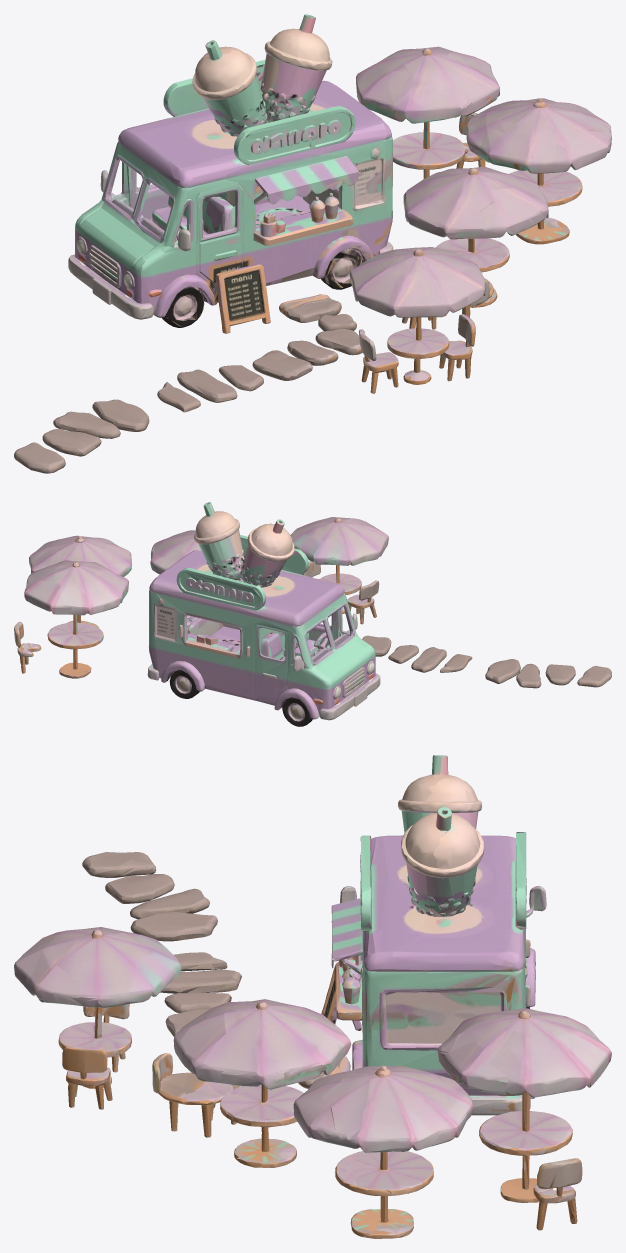
The model's file is milk-tea.glb.
3 renders of one model, top to bottom at view 1: azimuth 30°, elevation 25°; view 2: azimuth 150°, elevation 25°; view 3: azimuth 270°, elevation 25°, orthographic. The views are drawn at different scales.
Visible parts, largest first — view 1: output_unwrapped; view 2: output_unwrapped; view 3: output_unwrapped.
Part boxes in pixels (x1=…): output_unwrapped: x1=14, y1=14, x2=611, y2=473; output_unwrapped: x1=14, y1=502, x2=611, y2=726; output_unwrapped: x1=14, y1=755, x2=611, y2=1238.
Size of the model in its own units: 1.9 by 0.6584 by 1.2.
1 material, 1 textured.
